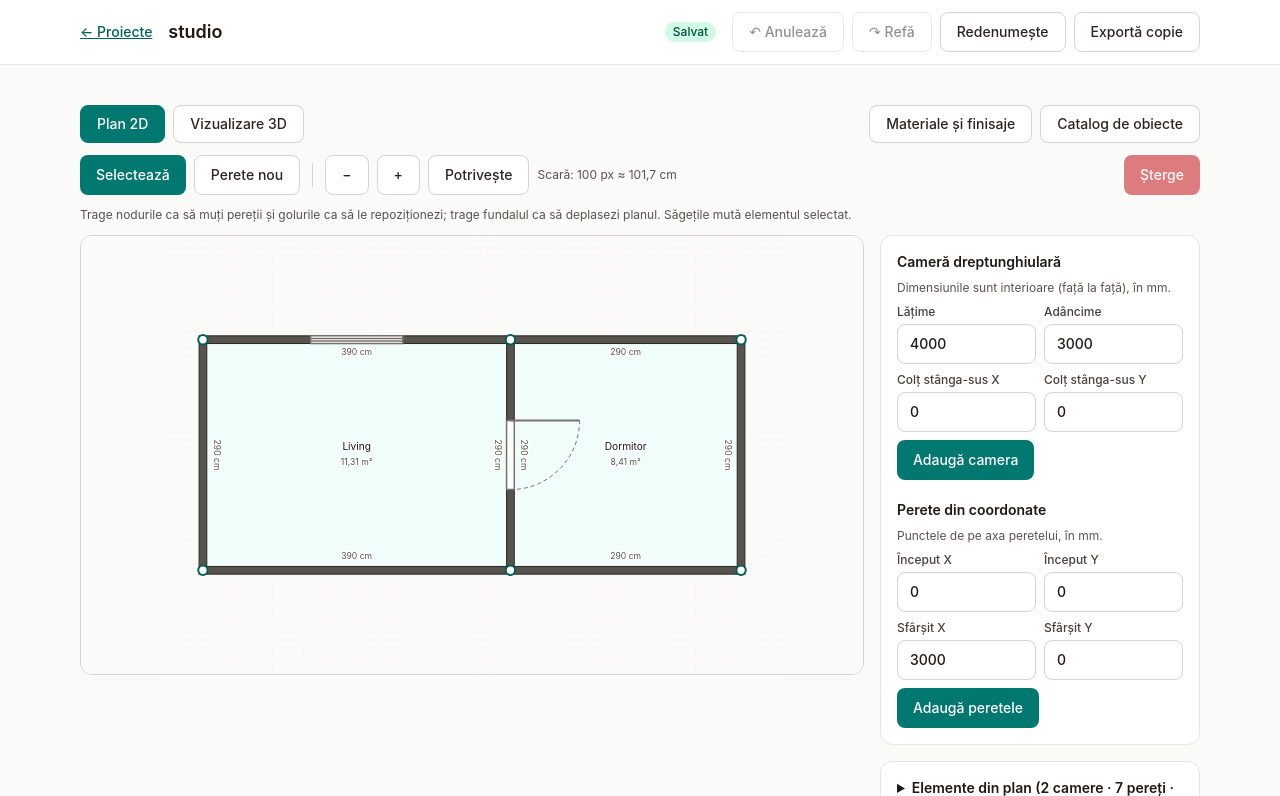
Test: panoul „Materiale și finisaje”: țintă, listă, căutare › se deschide la cerere; implicit ținta e podeaua primei camere și se afișează DOAR materiale compatibile (fără vopsea)
Click the button with test id "materials-toggle".
click(951, 124)  # box top-left (869, 105), bottom-right (1032, 143)
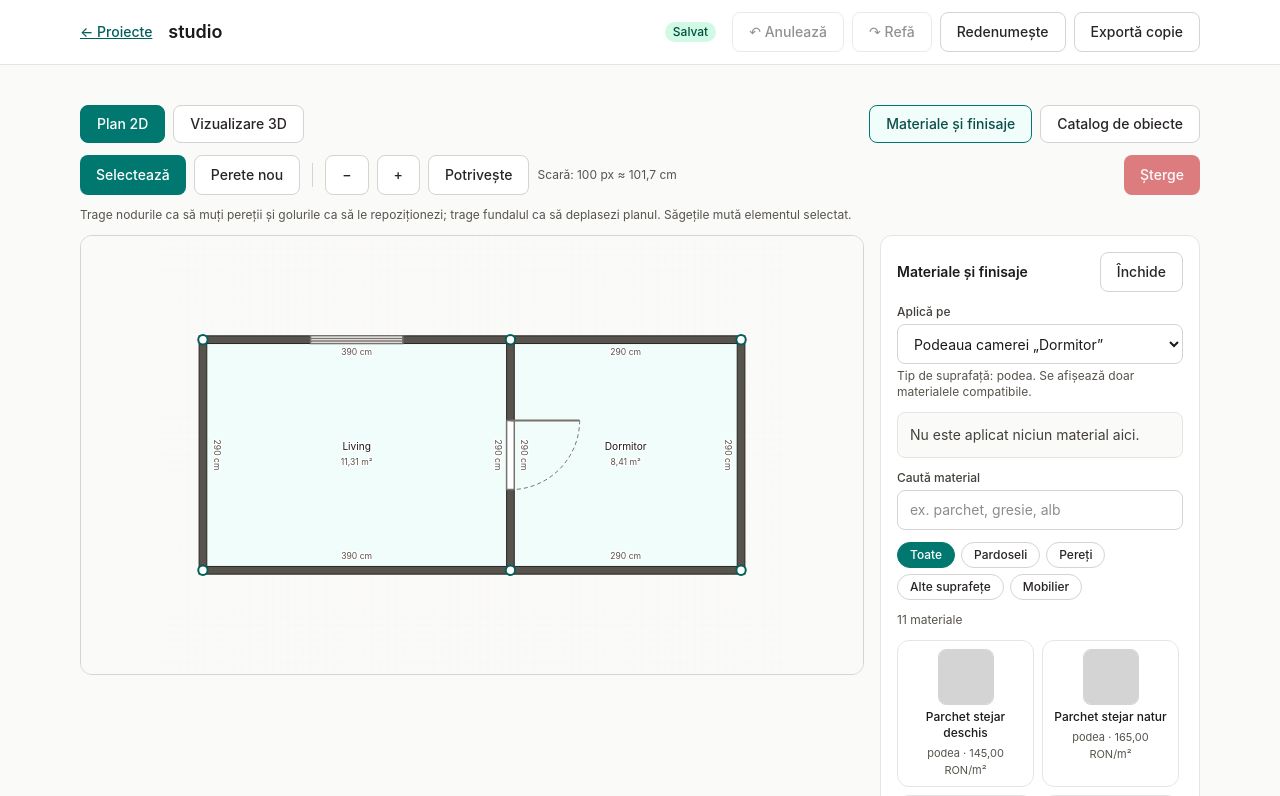
Expected: the text with test id "materials-surface-hint" shows "podea", top-left (997, 368), bottom-right (1032, 383)
